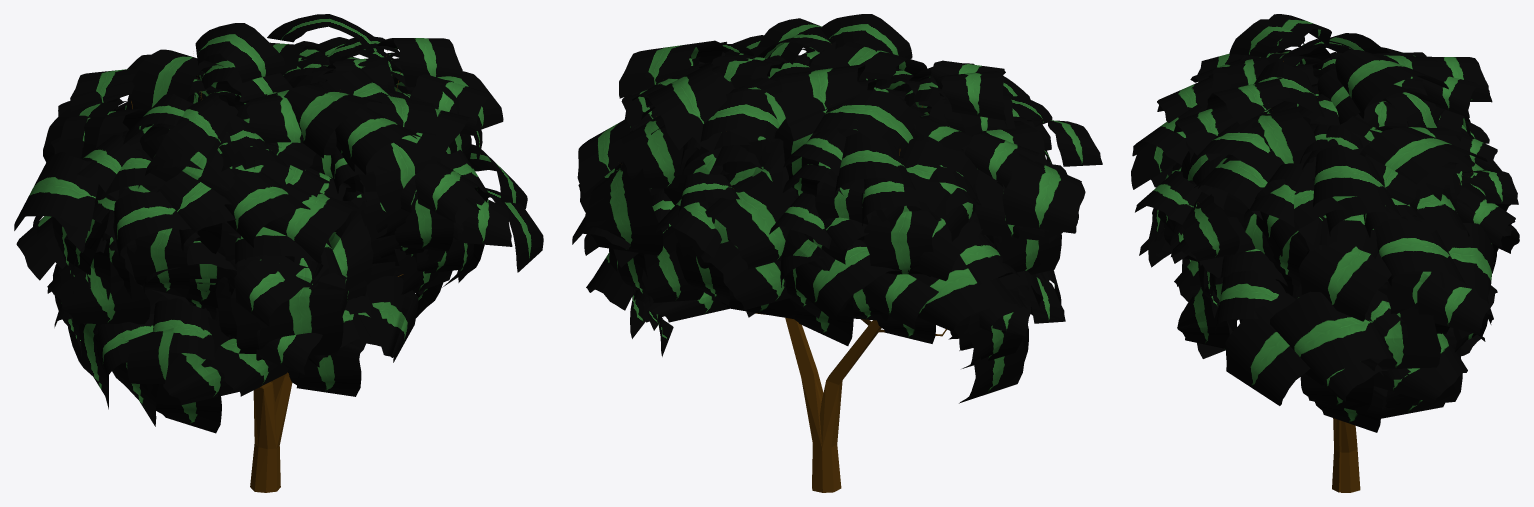
The model's file is mango tree medium new.glb.
The picture shows the model from 3 angles, left to right: view 1: azimuth 30°, elevation 25°; view 2: azimuth 150°, elevation 25°; view 3: azimuth 270°, elevation 25°; orthographic projection. The views are drawn at different scales.
Parts seen in each view (by area): view 1: MeshRenderer2.003, MeshRenderer3; view 2: MeshRenderer2.003, MeshRenderer3; view 3: MeshRenderer2.003, MeshRenderer3.
Part boxes in pixels (x1,y1,x2,y2): MeshRenderer2.003: (14,14,543,433); MeshRenderer3: (250,372,292,492); MeshRenderer2.003: (572,14,1102,403); MeshRenderer3: (785,318,881,492); MeshRenderer2.003: (1131,14,1519,432); MeshRenderer3: (1332,418,1360,492).
Size of the model in its own units: 5.44 by 4.51 by 3.79.
Materials: 2 (1 with a texture image).
